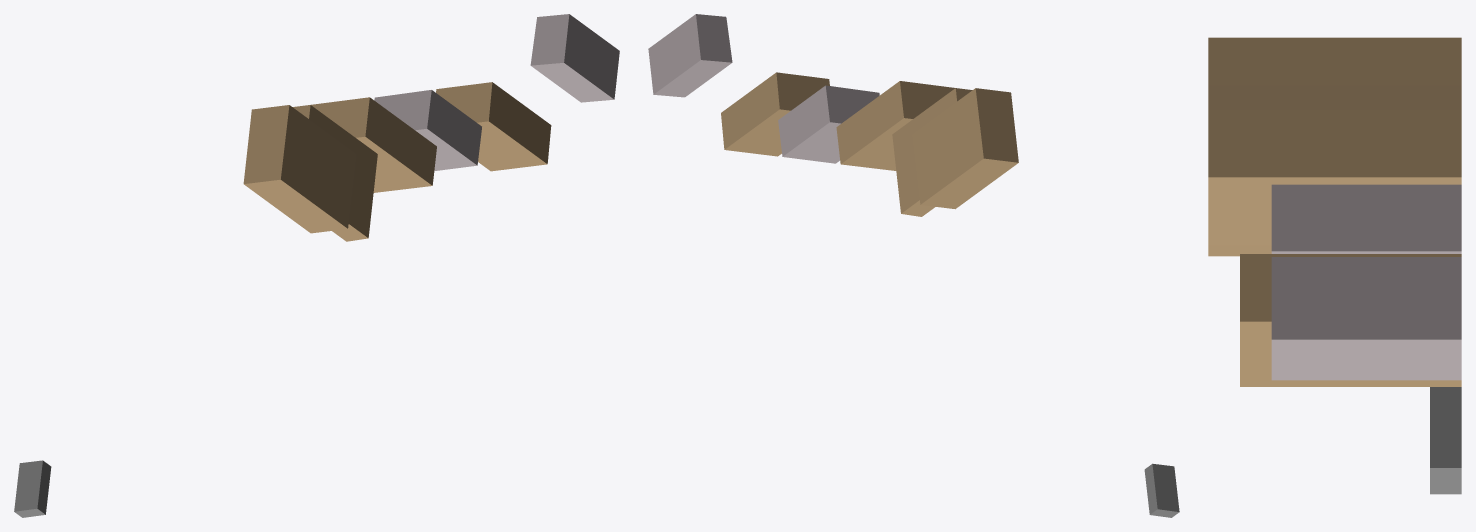
3 views of the same model, side by side, from view 1: azimuth 30°, elevation 25°; view 2: azimuth 150°, elevation 25°; view 3: azimuth 270°, elevation 25° (orthographic). The views are drawn at different scales.
Parts seen in each view (by area): view 1: 0_0_3_1_3_3_2; view 2: 0_0_3_1_3_3_2; view 3: 0_0_3_1_3_3_2.
Boxes of the visible parts, x1,y1,x2,y2 form: 0_0_3_1_3_3_2: [14, 14, 619, 517]; 0_0_3_1_3_3_2: [648, 14, 1179, 517]; 0_0_3_1_3_3_2: [1208, 37, 1461, 494].
Bounding box in the file's own units: 114 × 72.75 × 24.
